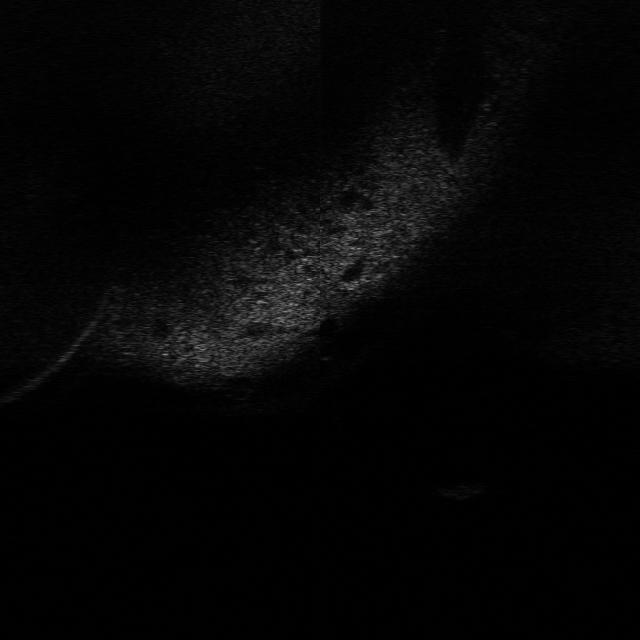ball: (434, 478, 490, 503), (312, 336, 343, 363)
